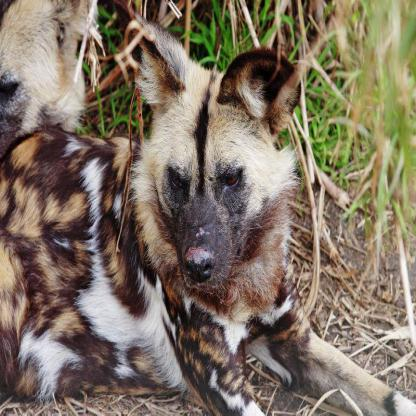dhole: (0, 12, 411, 412)
